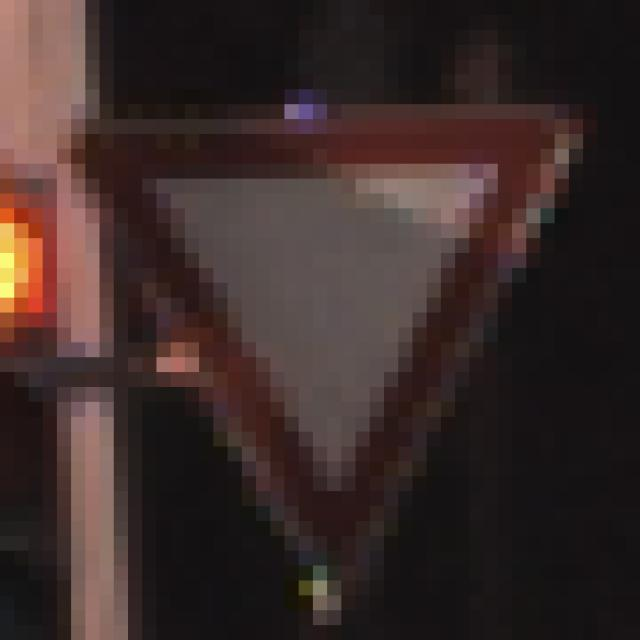Give Way: (72, 76, 570, 567)
